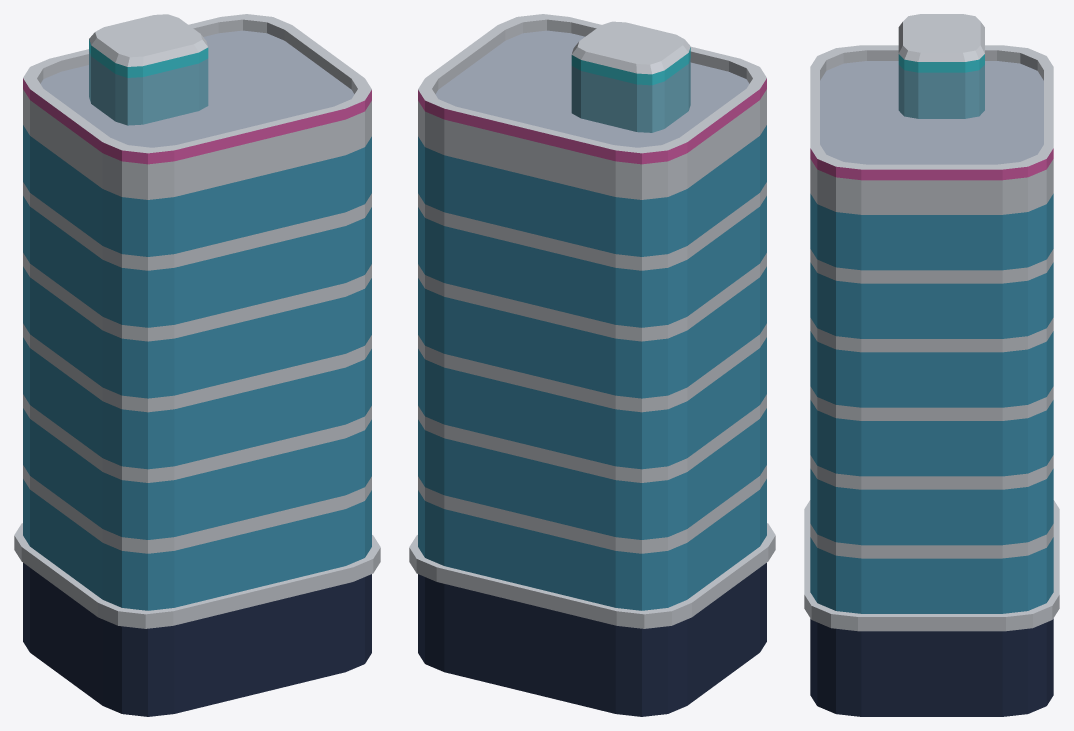
Rendered from city-midrise-1.glb.
3 views of the same model, side by side, from view 1: azimuth 30°, elevation 25°; view 2: azimuth 150°, elevation 25°; view 3: azimuth 270°, elevation 25° (orthographic). The views are drawn at different scales.
Parts seen in each view (by area): view 1: CityMidrise1; view 2: CityMidrise1; view 3: CityMidrise1.
Boxes of the visible parts, box(x1,y1,x2,y2) form: CityMidrise1: box(14, 14, 380, 716); CityMidrise1: box(409, 14, 775, 716); CityMidrise1: box(804, 14, 1059, 716).
Bounding box in the file's own units: 15.75 × 33.8 × 13.02.
